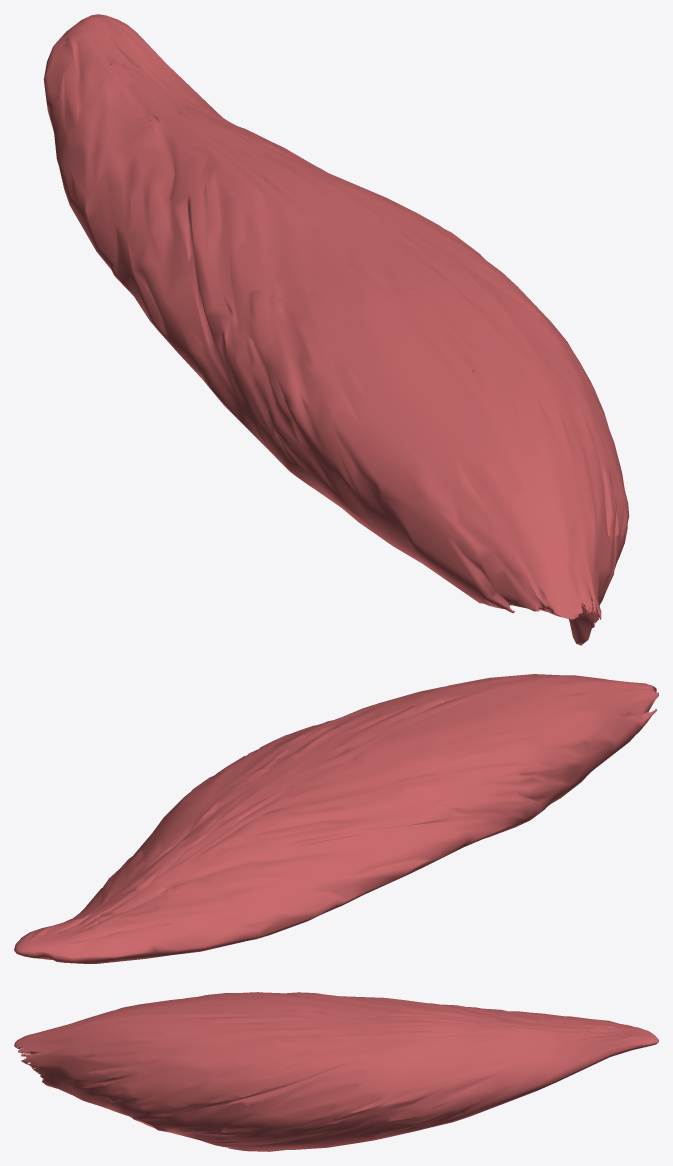
The picture shows the model from 3 angles, top to bottom: view 1: azimuth 30°, elevation 25°; view 2: azimuth 150°, elevation 25°; view 3: azimuth 270°, elevation 25°; orthographic projection. The views are drawn at different scales.
Visible parts, largest first — view 1: 右侧比目鱼肌; view 2: 右侧比目鱼肌; view 3: 右侧比目鱼肌.
Boxes of the visible parts, x1=… form: 右侧比目鱼肌: x1=43, y1=14, x2=629, y2=645; 右侧比目鱼肌: x1=14, y1=674, x2=658, y2=963; 右侧比目鱼肌: x1=14, y1=992, x2=658, y2=1151.
Bounding box in the file's own units: 0.1254 × 0.0814 × 0.4063.
